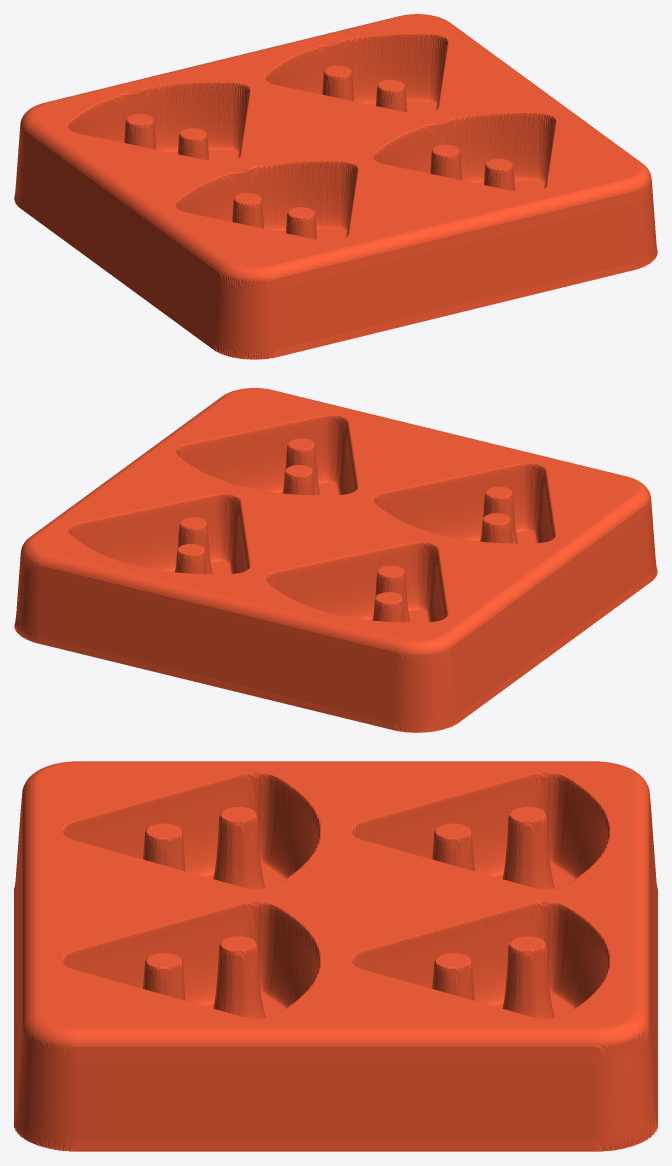
Rendered from mold.glb.
The picture shows the model from 3 angles, top to bottom: view 1: azimuth 30°, elevation 25°; view 2: azimuth 150°, elevation 25°; view 3: azimuth 270°, elevation 25°; orthographic projection. The views are drawn at different scales.
Parts seen in each view (by area): view 1: geometry_0; view 2: geometry_0; view 3: geometry_0.
Part boxes in pixels (left/top/right/bottom): geometry_0: left=14, top=14, right=657, bottom=359; geometry_0: left=14, top=388, right=657, bottom=732; geometry_0: left=14, top=761, right=657, bottom=1151.
Size of the model in its own units: 0.0952 by 0.0175 by 0.0904.
